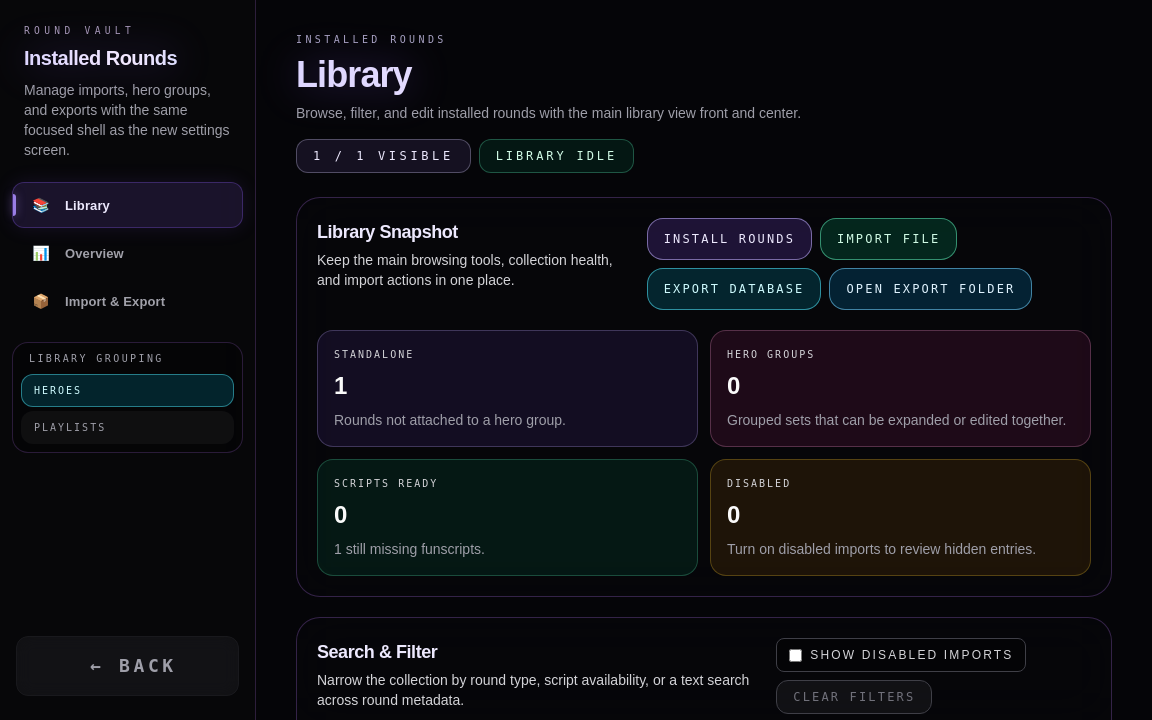
Test: InstalledRoundsPage hero grouping › exports with default safe mode when started from the internal dialog
Click the button "Export Database": (734, 289) [647,268,822,310]
(page scrolled)
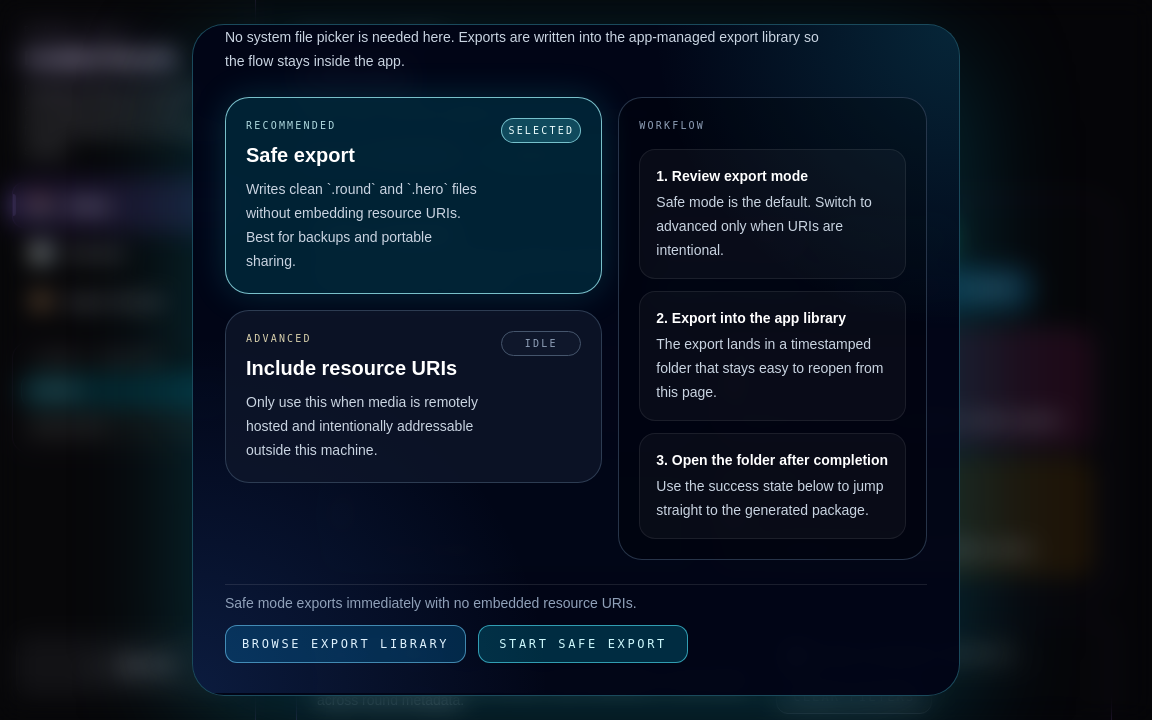
Result: the dialog "Package your installed rounds." is shown
Click the button "Start Safe Export": (583, 644) [478,625,688,663]
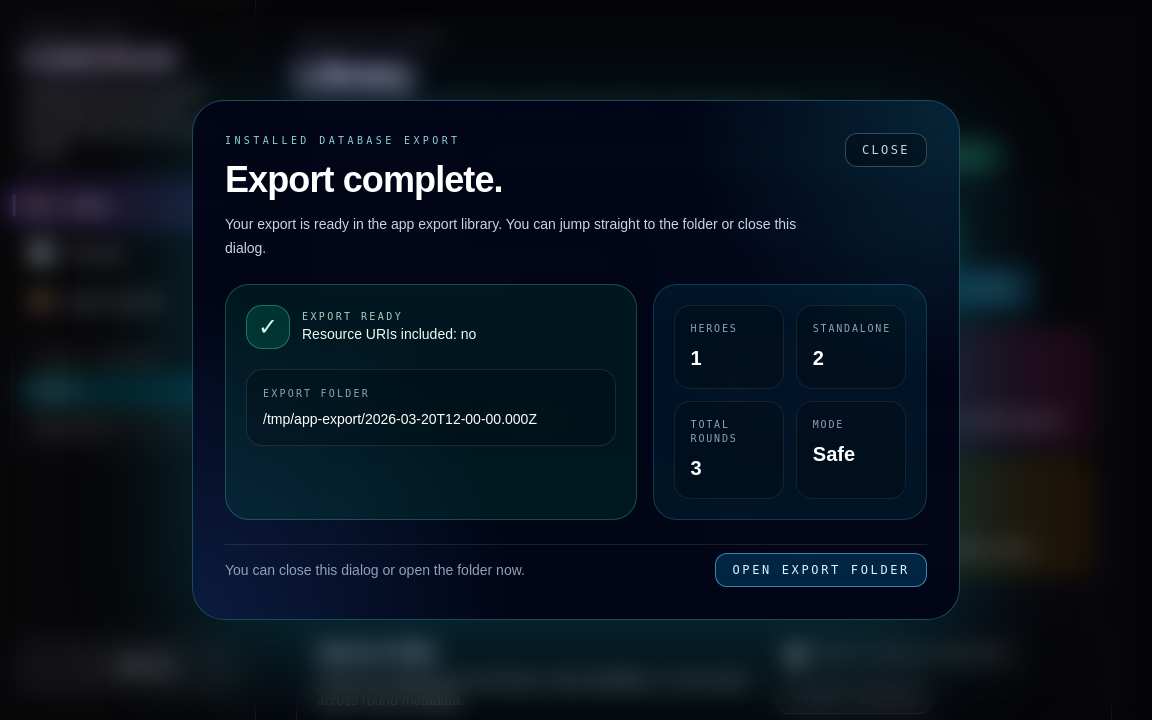
Result: the text "/tmp/app-export/2026-03-20T12-00-00.000Z" is shown at [263,411,537,427]
Result: the heading "Export complete." is shown at [225,159,503,200]
